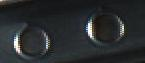joints: (83, 8, 126, 45), (11, 21, 52, 59)
